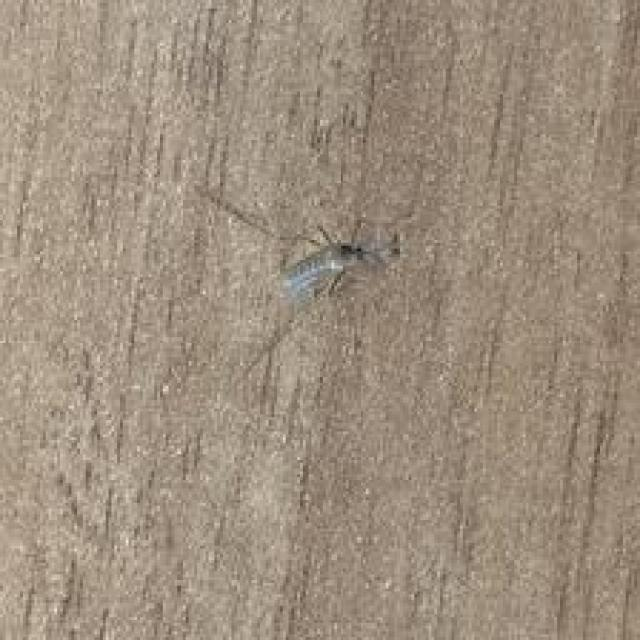Culex: (193, 177, 404, 306)
